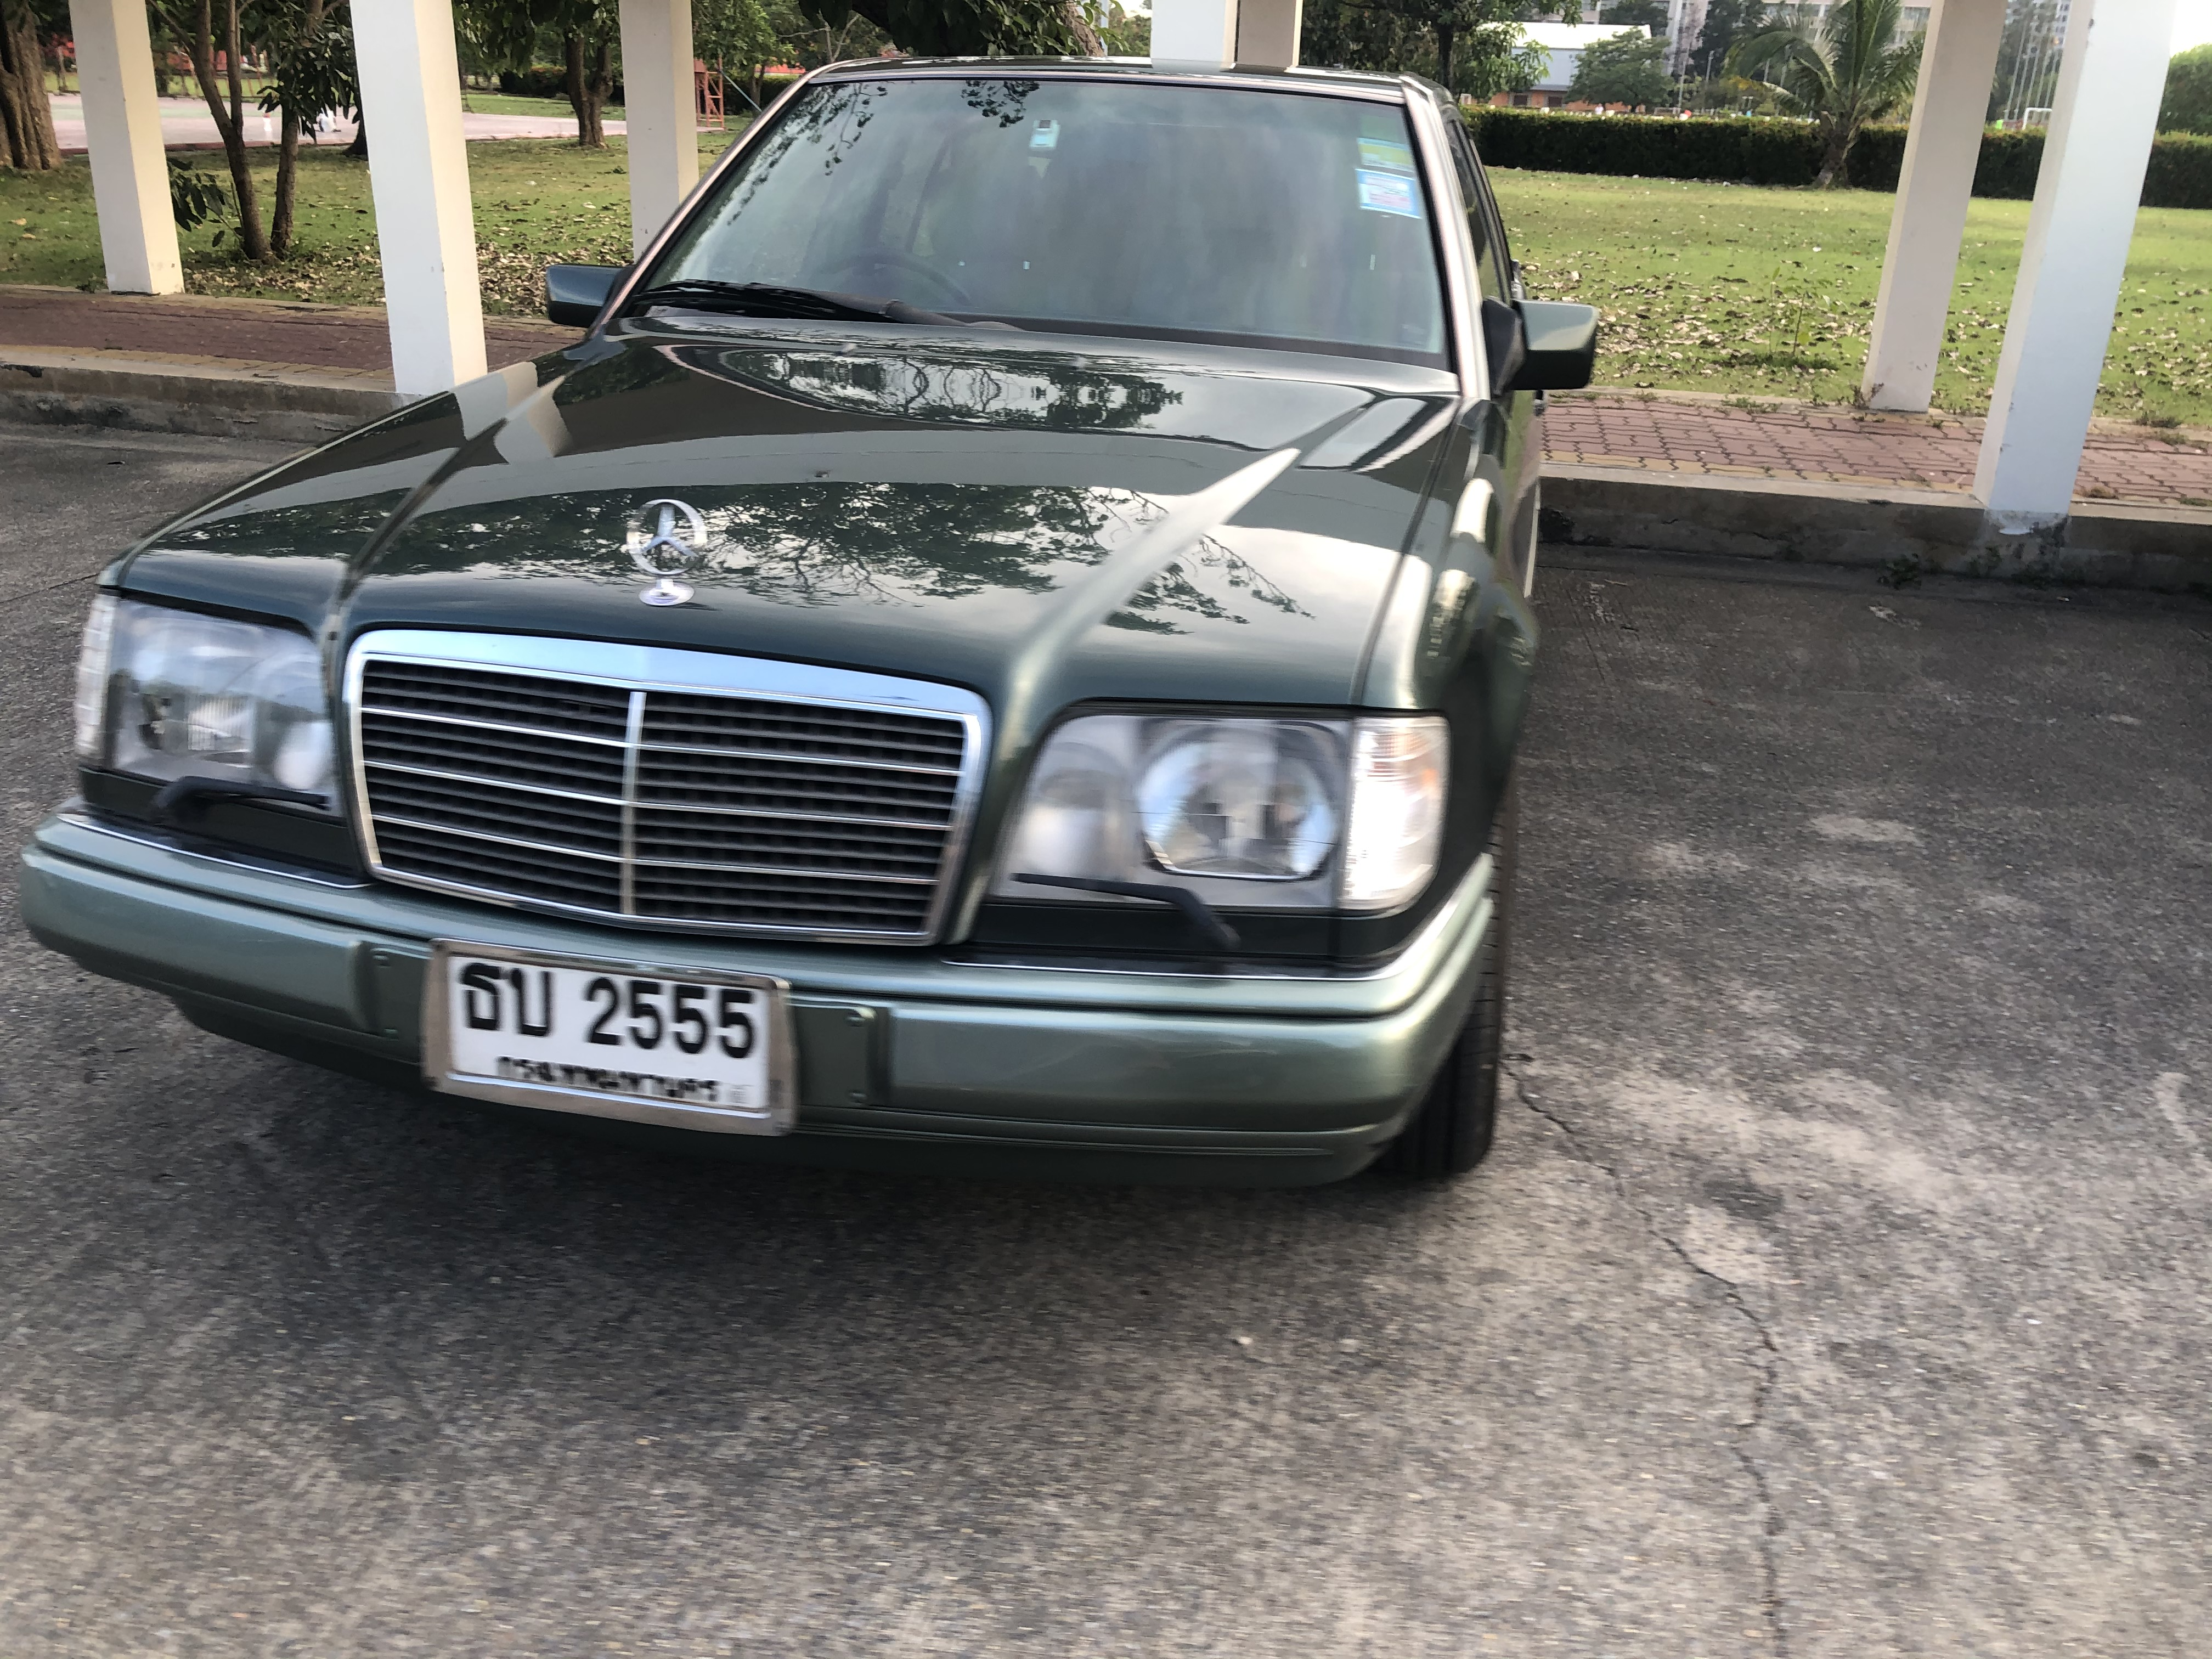in: (444, 953, 772, 1117)
out: (416, 927, 805, 1141)
